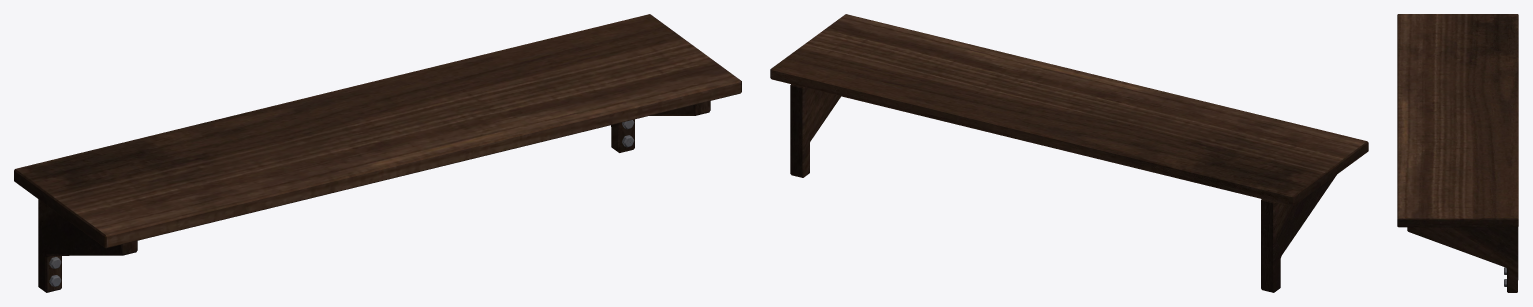
The model's file is wall_shelf_wooden_sanzid.glb.
3 renders of one model, left to right at view 1: azimuth 30°, elevation 25°; view 2: azimuth 150°, elevation 25°; view 3: azimuth 270°, elevation 25°, orthographic. The views are drawn at different scales.
Parts seen in each view (by area): view 1: defaultMaterial; view 2: defaultMaterial; view 3: defaultMaterial.
Boxes of the visible parts, bbox=[...] form: defaultMaterial: bbox=[14, 14, 741, 292]; defaultMaterial: bbox=[770, 14, 1368, 292]; defaultMaterial: bbox=[1397, 14, 1518, 292].
Bounding box in the file's own units: 2 × 0.3738 × 0.5001.
Materials: 1 (1 with a texture image).
